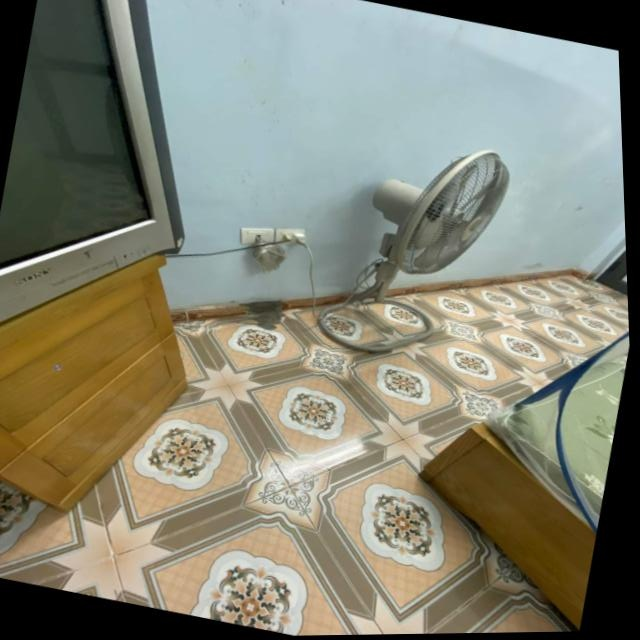outlet: (236, 223, 276, 252), (273, 225, 308, 251)
